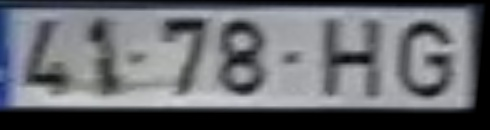1: (84, 13, 124, 102)
4: (20, 18, 74, 102)
7: (159, 16, 211, 101)
8: (214, 15, 272, 100)
G: (395, 18, 458, 103)
H: (319, 17, 387, 103)
